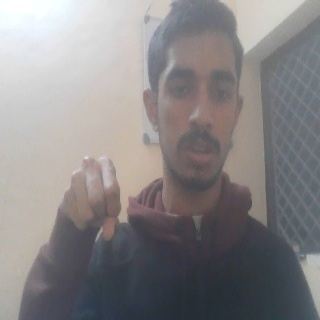Face: (142, 1, 247, 190)
Yes: (61, 153, 122, 247)
